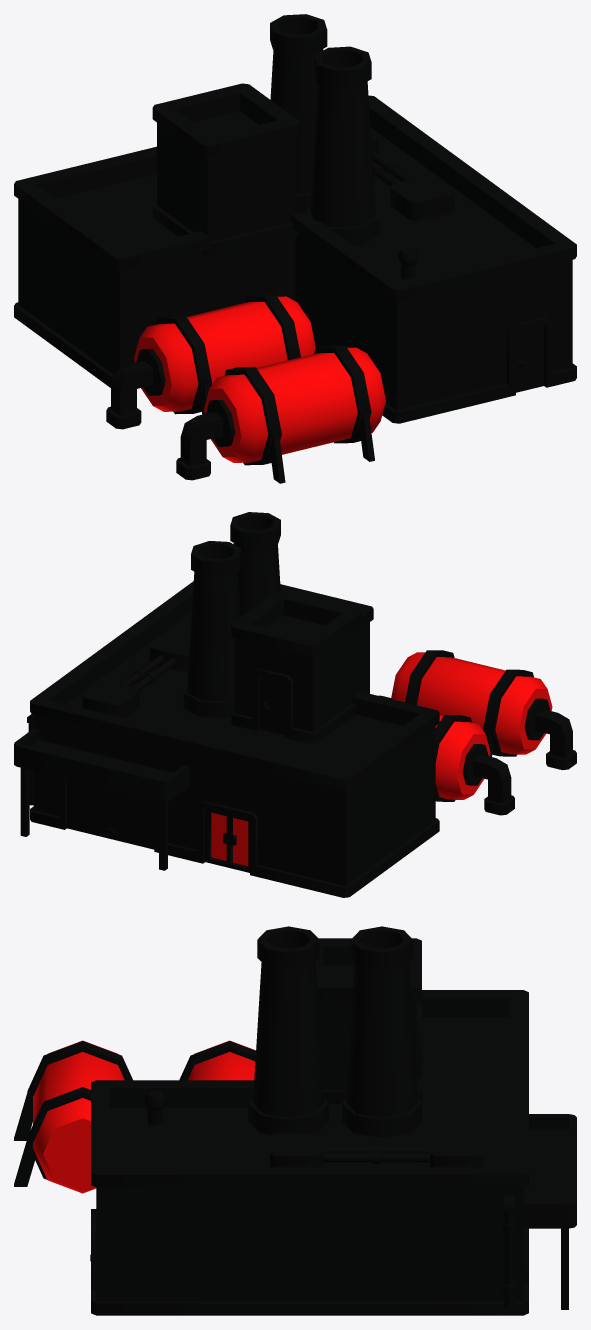
File: building-c.glb
The picture shows the model from 3 angles, top to bottom: view 1: azimuth 30°, elevation 25°; view 2: azimuth 150°, elevation 25°; view 3: azimuth 270°, elevation 25°; orthographic projection. The views are drawn at different scales.
Visible parts, largest first — view 1: building-c; view 2: building-c; view 3: building-c.
Boxes of the visible parts, box(x1,y1,x2,y2) form: building-c: box(14, 14, 576, 483); building-c: box(14, 512, 576, 897); building-c: box(14, 926, 576, 1315).
Size of the model in its own units: 1.88 by 1.25 by 2.11.
1 material, 1 textured.
